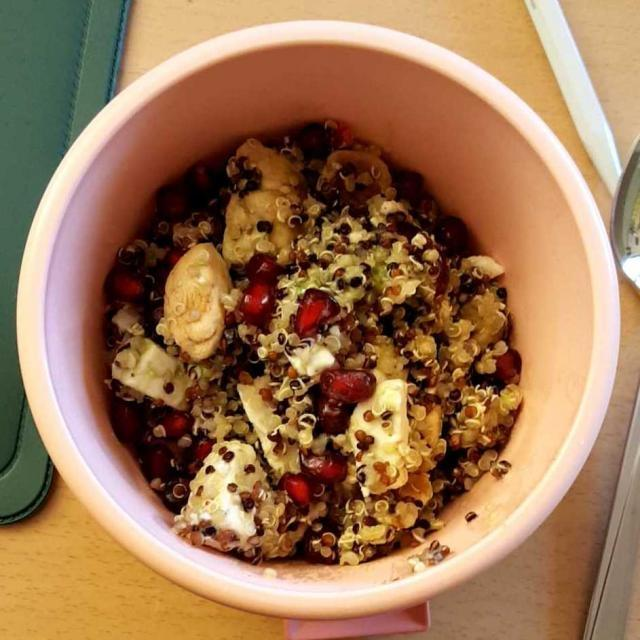chicken: (164, 158, 436, 554)
pomegranate: (161, 248, 364, 501)
quinoa: (107, 123, 515, 562)
